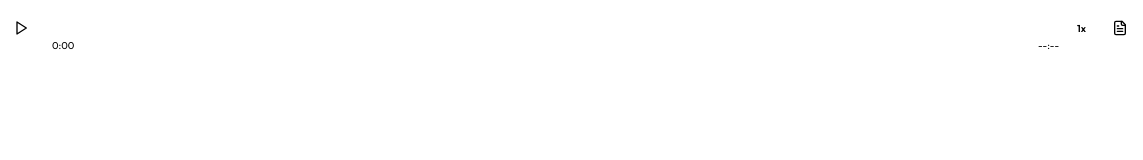
Test: AudioMessagePlayer - Playback Speed Controls › shows decimal speeds correctly (1.25x, 1.5x, etc)
Click the button titled "Velocidade".
click(1082, 29)  # box [1071,17,1092,41]
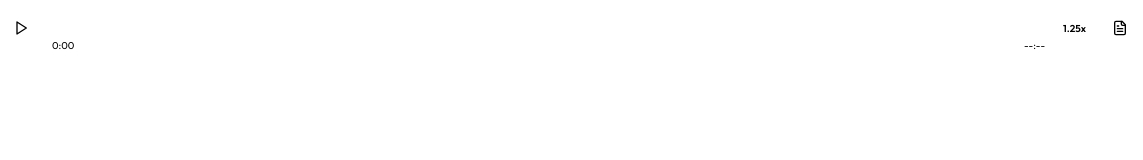
Result: the button titled "Velocidade" reads "1.25x"
Click the button titled "Velocidade".
click(1075, 29)  # box [1057,17,1092,41]
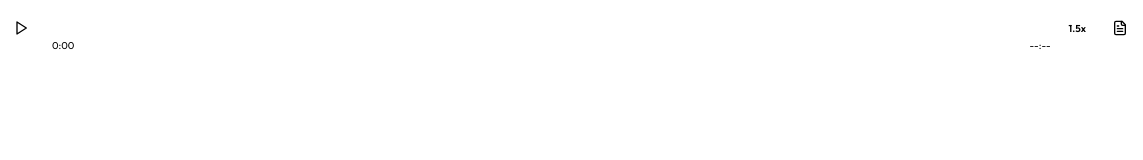
Result: the button titled "Velocidade" reads "1.5x"
Click the button titled "Velocidade".
click(1077, 29)  # box [1063,17,1092,41]
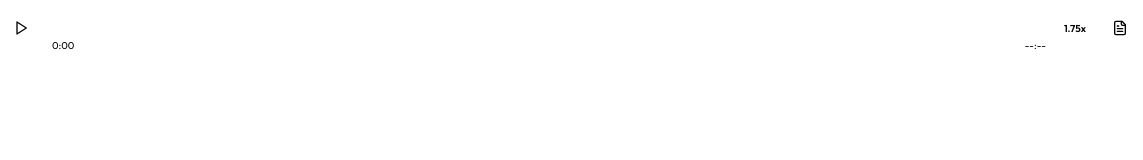
Result: the button titled "Velocidade" reads "1.75x" at [1058,17,1092,41]
